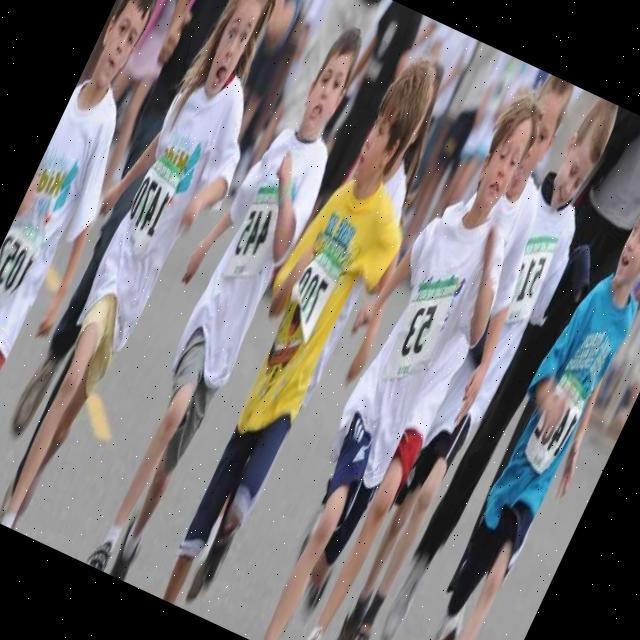Person: (223, 68, 585, 640), (133, 42, 480, 630), (56, 5, 390, 588), (278, 73, 613, 640), (314, 90, 640, 640), (0, 0, 323, 552), (384, 154, 640, 640), (0, 0, 209, 509)
